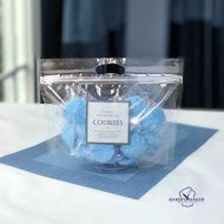snack: (27, 49, 191, 178)
